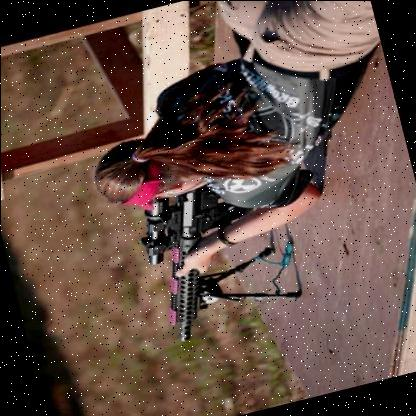rifle: (120, 162, 281, 345)
